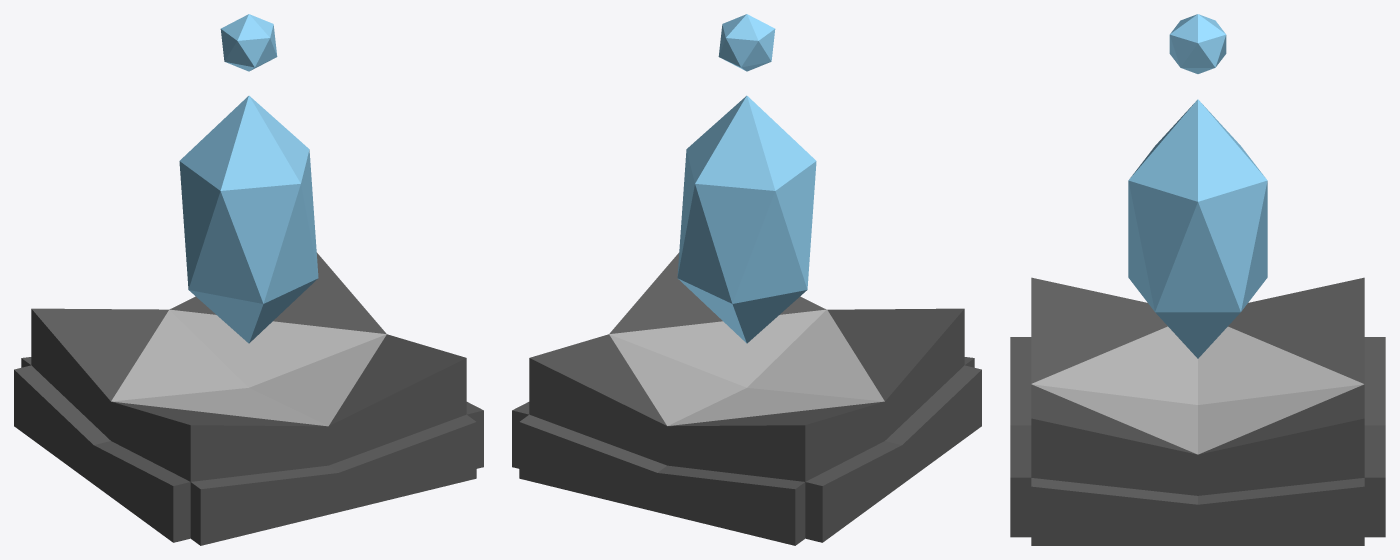
Rendered from Laser Tower.fbx.
3 renders of one model, left to right at view 1: azimuth 30°, elevation 25°; view 2: azimuth 150°, elevation 25°; view 3: azimuth 270°, elevation 25°, orthographic. The views are drawn at different scales.
Visible parts, largest first — view 1: Tower Base, Icosphere, Fire Point; view 2: Tower Base, Icosphere, Fire Point; view 3: Tower Base, Icosphere, Fire Point.
Part boxes in pixels (x1,y1,x2,y2): Tower Base: (14,252,483,545); Icosphere: (179,95,318,343); Fire Point: (220,14,277,71); Tower Base: (512,252,981,545); Icosphere: (677,95,816,343); Fire Point: (718,14,775,71); Tower Base: (1010,277,1385,545); Icosphere: (1128,99,1267,358); Fire Point: (1169,14,1226,73).
Size of the model in its own units: 1.8 by 1.8 by 2.4.
